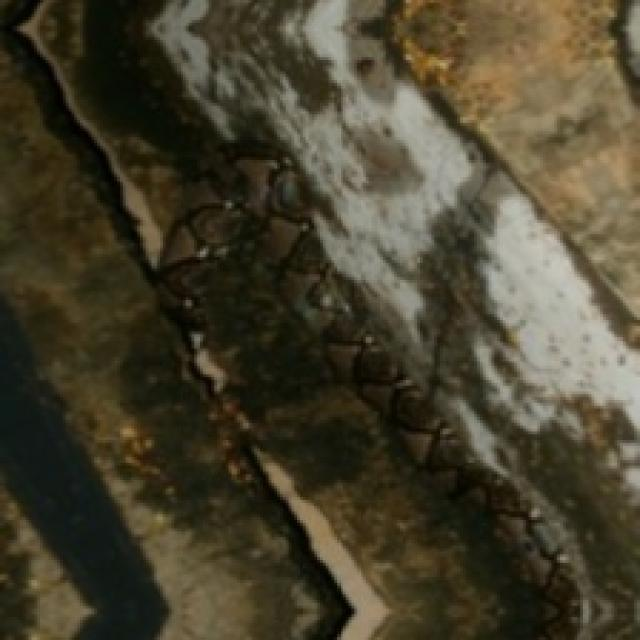reticulated python: (151, 154, 610, 640)
